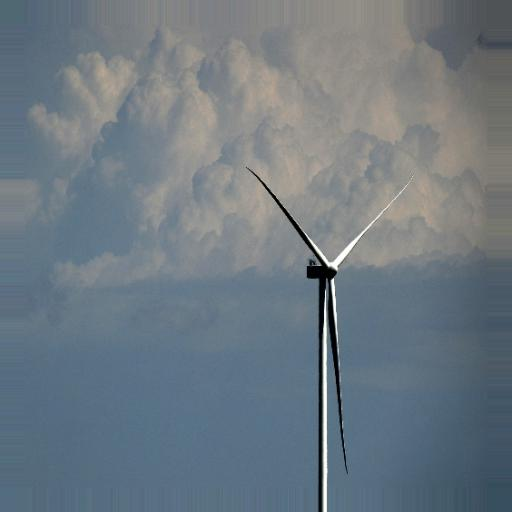wind turbine: (246, 166, 415, 508)
